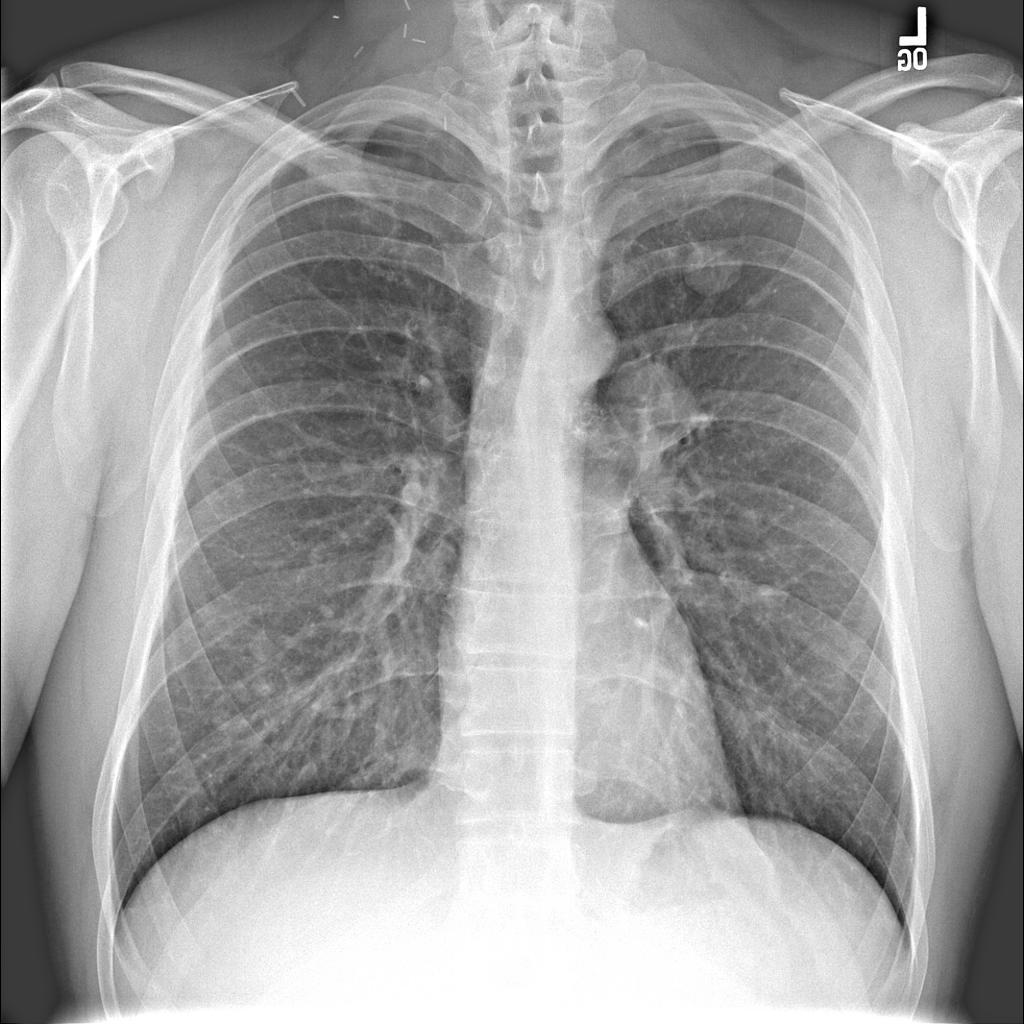Nodule: (608, 349, 705, 438), (680, 237, 748, 304)
